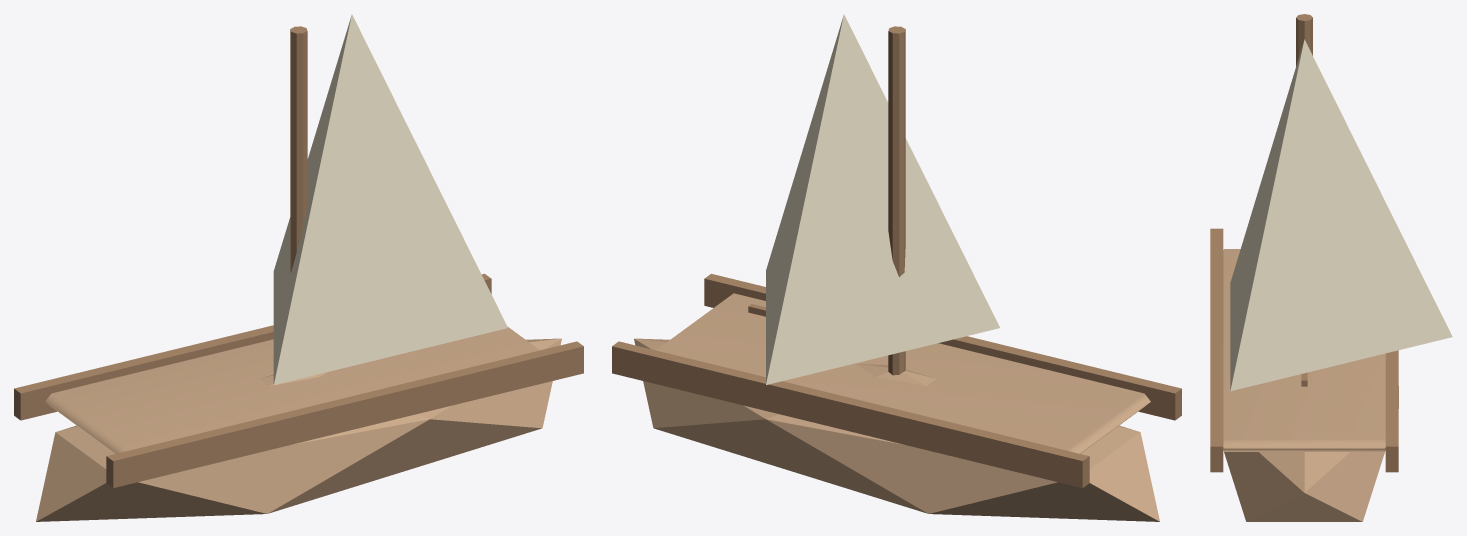
File: sailboat.glb
The picture shows the model from 3 angles, left to right: view 1: azimuth 30°, elevation 25°; view 2: azimuth 150°, elevation 25°; view 3: azimuth 270°, elevation 25°; orthographic projection. The views are drawn at different scales.
Visible parts, largest first — view 1: Canvas sail, Faceted boat hull, Boat deck, Gunwale, Gunwale.001, Mast; view 2: Canvas sail, Faceted boat hull, Boat deck, Gunwale.001, Gunwale, Mast; view 3: Canvas sail, Boat deck, Faceted boat hull, Gunwale, Gunwale.001, Mast.
Boxes of the visible parts, x1,y1,x2,y2 form: Canvas sail: (273, 14, 507, 384); Faceted boat hull: (36, 338, 561, 521); Boat deck: (45, 326, 539, 453); Gunwale: (106, 341, 583, 488); Gunwale.001: (14, 273, 491, 420); Mast: (290, 26, 307, 272); Canvas sail: (766, 14, 999, 384); Faceted boat hull: (634, 338, 1159, 521); Boat deck: (656, 293, 1150, 453); Gunwale.001: (612, 341, 1089, 488); Gunwale: (704, 273, 1181, 420); Mast: (888, 26, 905, 375); Canvas sail: (1230, 39, 1452, 391); Boat deck: (1223, 249, 1385, 451); Faceted boat hull: (1224, 386, 1398, 521); Gunwale: (1210, 228, 1223, 472); Gunwale.001: (1385, 350, 1398, 472); Mast: (1296, 14, 1312, 66).
Size of the model in its own units: 4.47 by 3.77 by 1.88.
